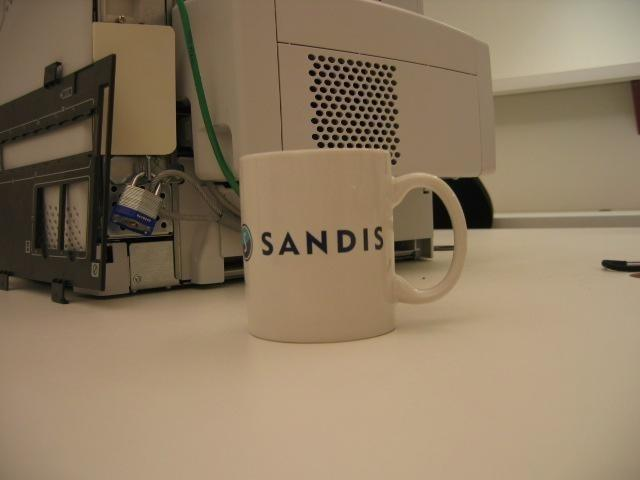cup-handle: (237, 147, 467, 344)
